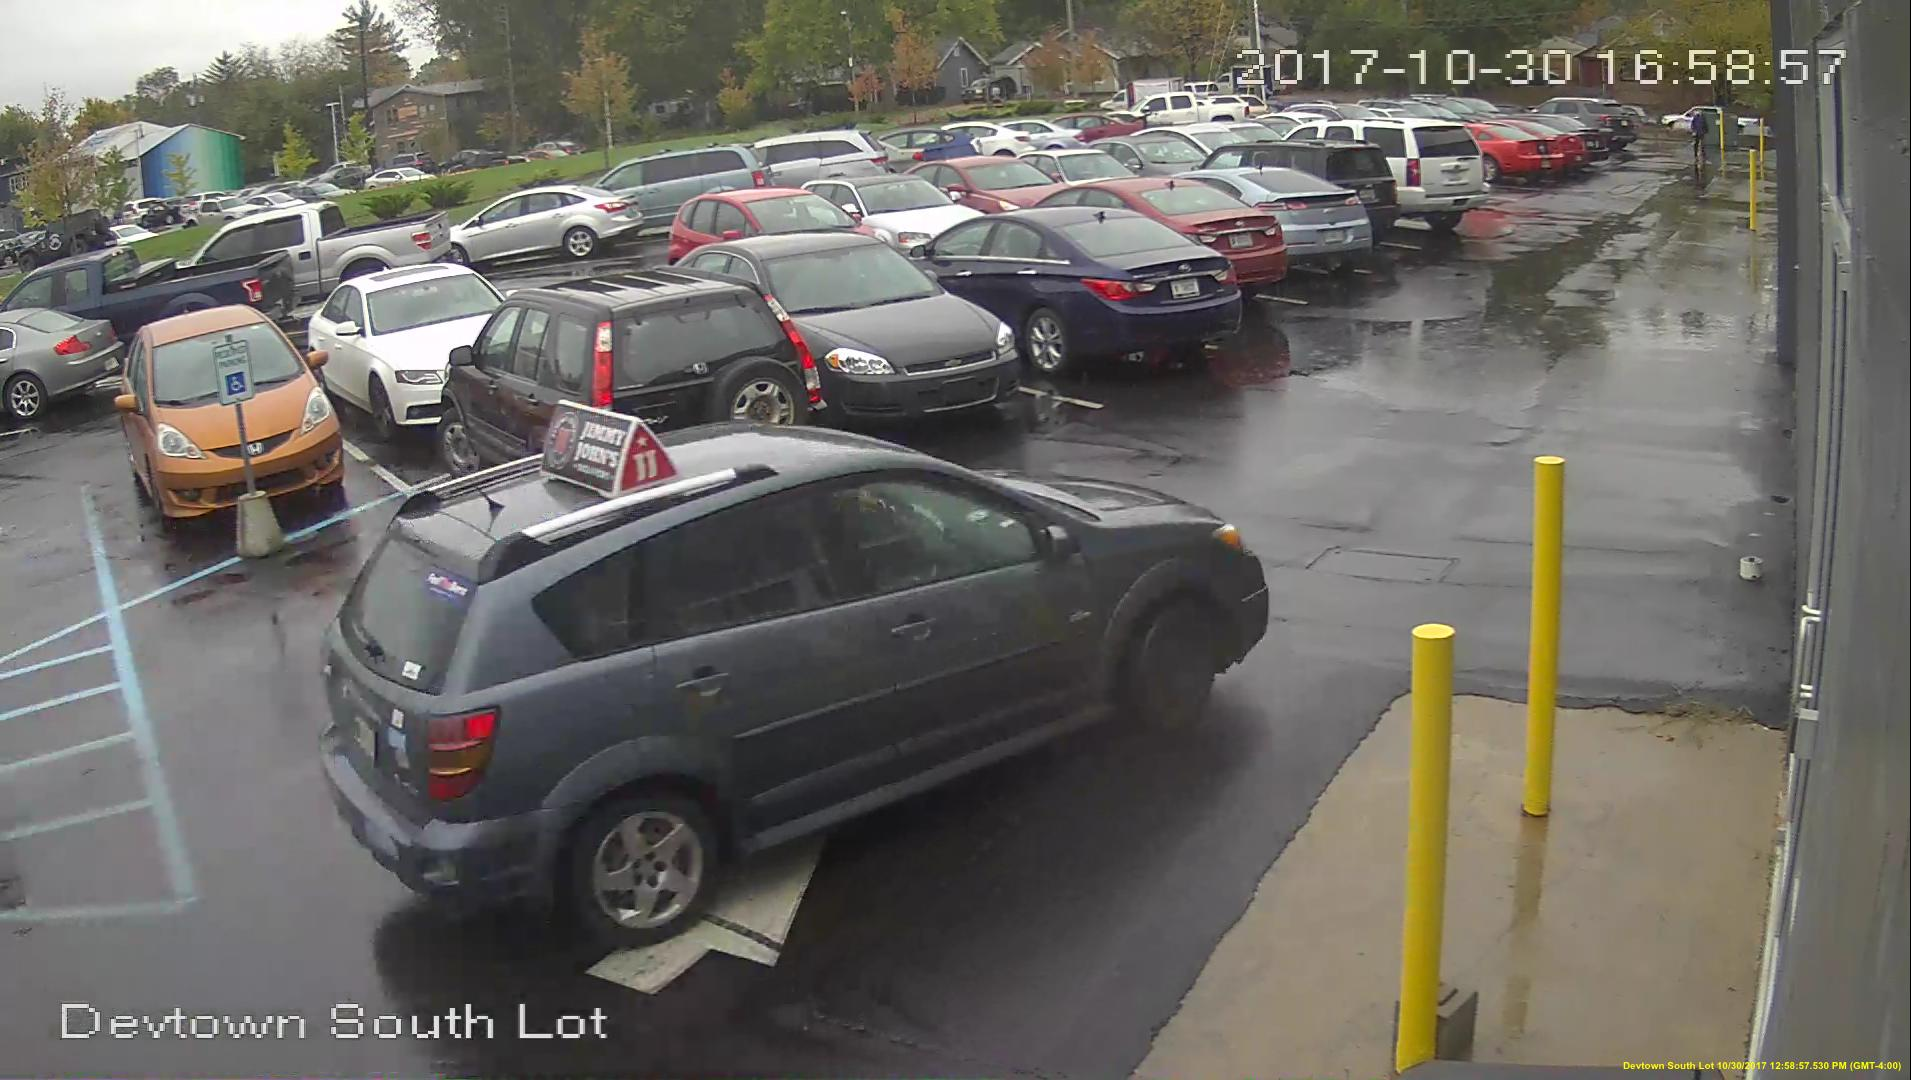jimmy_johns: (538, 400, 681, 504)
